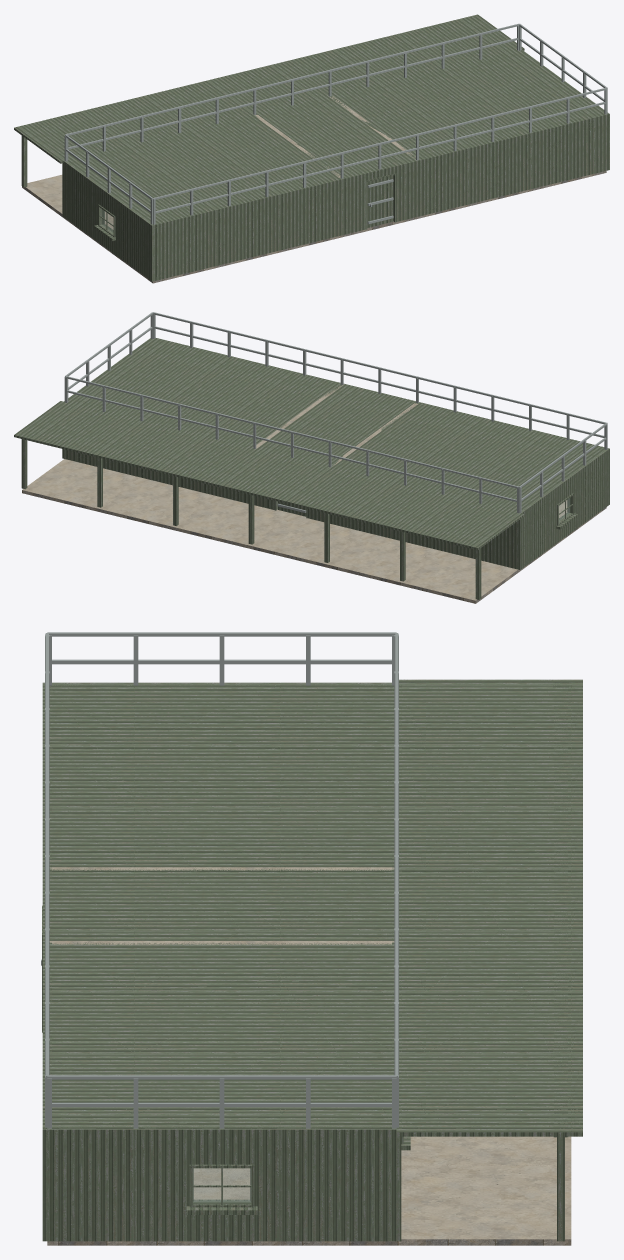
File: cyclone-barracks-canopy.gltf
3 views of the same model, one above another, from view 1: azimuth 30°, elevation 25°; view 2: azimuth 150°, elevation 25°; view 3: azimuth 270°, elevation 25° (orthographic). The views are drawn at different scales.
Visible parts, largest first — view 1: roof-L1-metal, exterior-L0-metal, roof-guards-L1-iron, datum-band-L0-metal, structure-L0-metal, floor-L0-stone, door-L0-metal, floor-L0-plaster, interior-L0-plaster, facade-trim-L0-metal; view 2: roof-L1-metal, floor-L0-plaster, roof-guards-L1-iron, exterior-L0-metal, structure-L0-metal, datum-band-L0-metal, floor-L0-stone, interior-L0-plaster; view 3: roof-L1-metal, exterior-L0-metal, floor-L0-plaster, roof-guards-L1-iron, datum-band-L0-metal, structure-L0-metal, floor-L0-stone, interior-L0-plaster, facade-trim-L0-metal, glazing-L0-glass.
Boxes of the visible parts, bbox=[...] form: roof-L1-metal: bbox=[14, 14, 602, 223]; exterior-L0-metal: bbox=[62, 117, 609, 281]; roof-guards-L1-iron: bbox=[64, 23, 607, 224]; datum-band-L0-metal: bbox=[63, 49, 609, 228]; structure-L0-metal: bbox=[19, 17, 483, 187]; floor-L0-stone: bbox=[22, 171, 606, 283]; door-L0-metal: bbox=[367, 175, 393, 227]; floor-L0-plaster: bbox=[26, 175, 113, 229]; interior-L0-plaster: bbox=[255, 96, 415, 177]; facade-trim-L0-metal: bbox=[94, 204, 115, 240]; roof-L1-metal: bbox=[14, 339, 602, 550]; floor-L0-plaster: bbox=[22, 459, 567, 600]; roof-guards-L1-iron: bbox=[64, 312, 607, 513]; exterior-L0-metal: bbox=[62, 449, 609, 569]; structure-L0-metal: bbox=[20, 431, 483, 599]; datum-band-L0-metal: bbox=[63, 338, 609, 513]; floor-L0-stone: bbox=[22, 490, 606, 603]; interior-L0-plaster: bbox=[253, 385, 418, 465]; roof-L1-metal: bbox=[49, 679, 582, 1136]; exterior-L0-metal: bbox=[42, 1136, 401, 1241]; floor-L0-plaster: bbox=[193, 1136, 571, 1239]; roof-guards-L1-iron: bbox=[45, 632, 398, 1128]; datum-band-L0-metal: bbox=[42, 682, 401, 1135]; structure-L0-metal: bbox=[553, 681, 568, 1241]; floor-L0-stone: bbox=[47, 1239, 571, 1245]; interior-L0-plaster: bbox=[49, 867, 394, 944]; facade-trim-L0-metal: bbox=[186, 1136, 410, 1214]; glazing-L0-glass: bbox=[193, 1168, 250, 1202].
Bounding box in the file's own units: 18.48 × 3.22 × 9.31.
5 materials, 3 textured.
